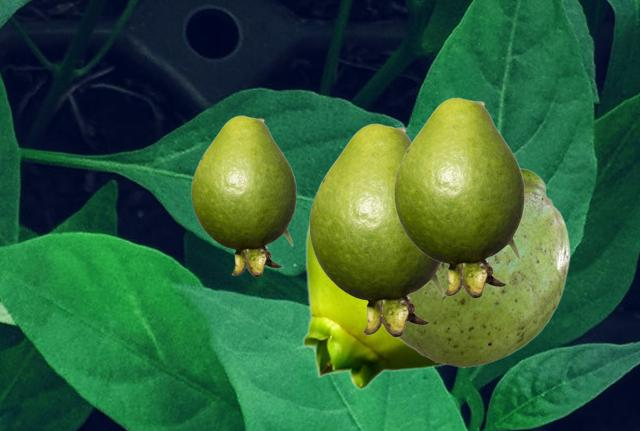guava: (396, 167, 569, 366), (309, 123, 444, 336), (394, 97, 523, 297), (302, 218, 450, 389), (191, 115, 295, 276)
